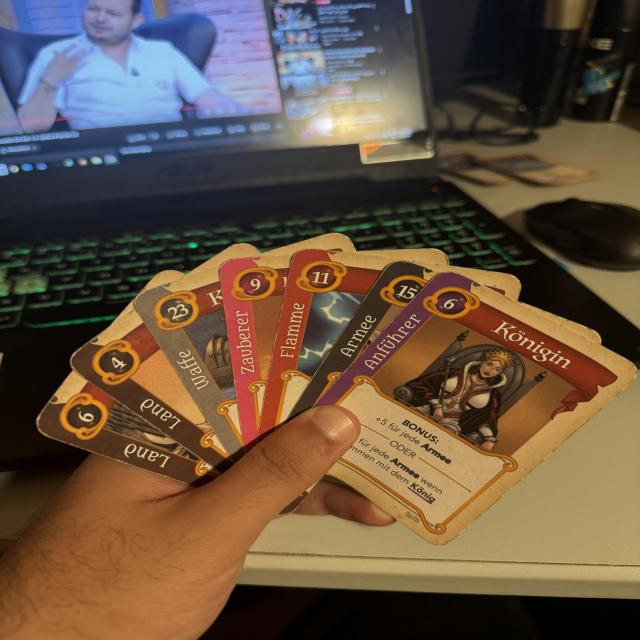Beast Master: (218, 251, 288, 443)
Dwarvish Infantry: (292, 260, 440, 412)
Earth Elemental: (66, 305, 237, 472)
Lightning: (258, 253, 385, 430)
Queen: (318, 269, 639, 549)
Underground Caverns: (26, 367, 220, 487)
Warship: (132, 261, 243, 460)
